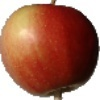apple: (1, 4, 100, 97)
